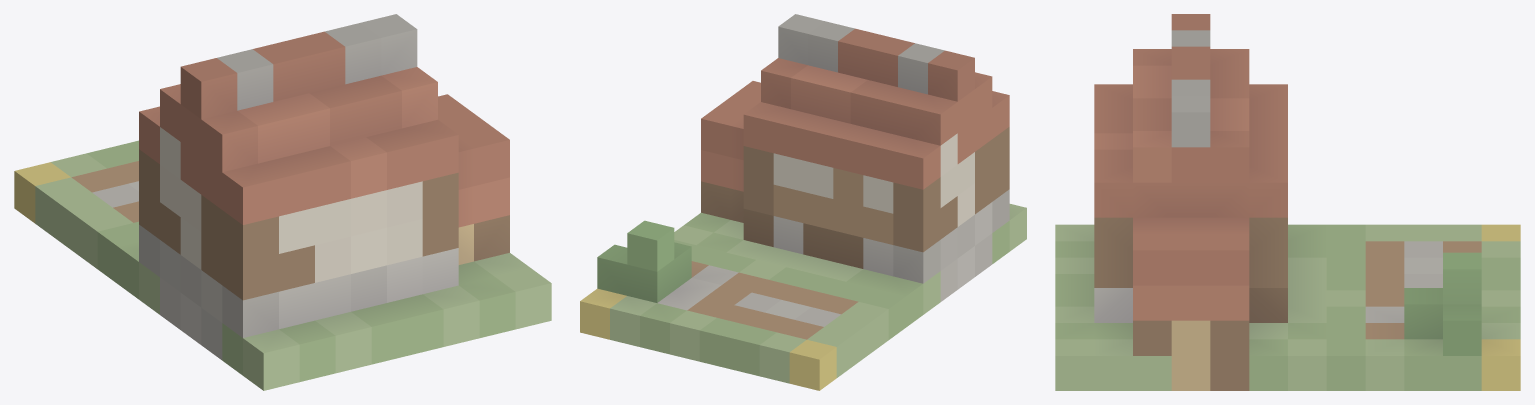
The model's file is tavern.lite.glb.
The picture shows the model from 3 angles, left to right: view 1: azimuth 30°, elevation 25°; view 2: azimuth 150°, elevation 25°; view 3: azimuth 270°, elevation 25°; orthographic projection. The views are drawn at different scales.
Parts seen in each view (by area): view 1: tavern; view 2: tavern; view 3: tavern.
Boxes of the visible parts, bbox=[...] form: tavern: bbox=[14, 14, 551, 390]; tavern: bbox=[580, 14, 1026, 390]; tavern: bbox=[1055, 14, 1520, 390].
Size of the model in its own units: 4 by 3.5 by 6.
